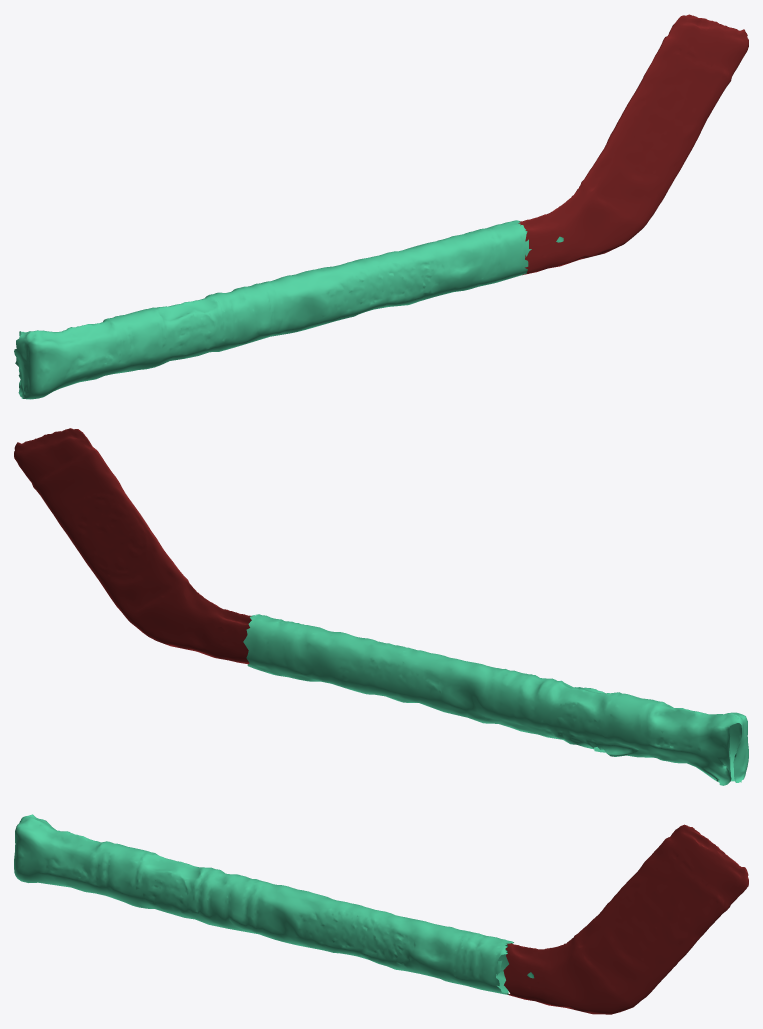
Rendered from object_deformed_2.obj.
3 renders of one model, top to bottom at view 1: azimuth 30°, elevation 25°; view 2: azimuth 150°, elevation 25°; view 3: azimuth 330°, elevation 25°, orthographic. The views are drawn at different scales.
Size of the model in its own units: 0.6063 by 0.1655 by 0.0385.
